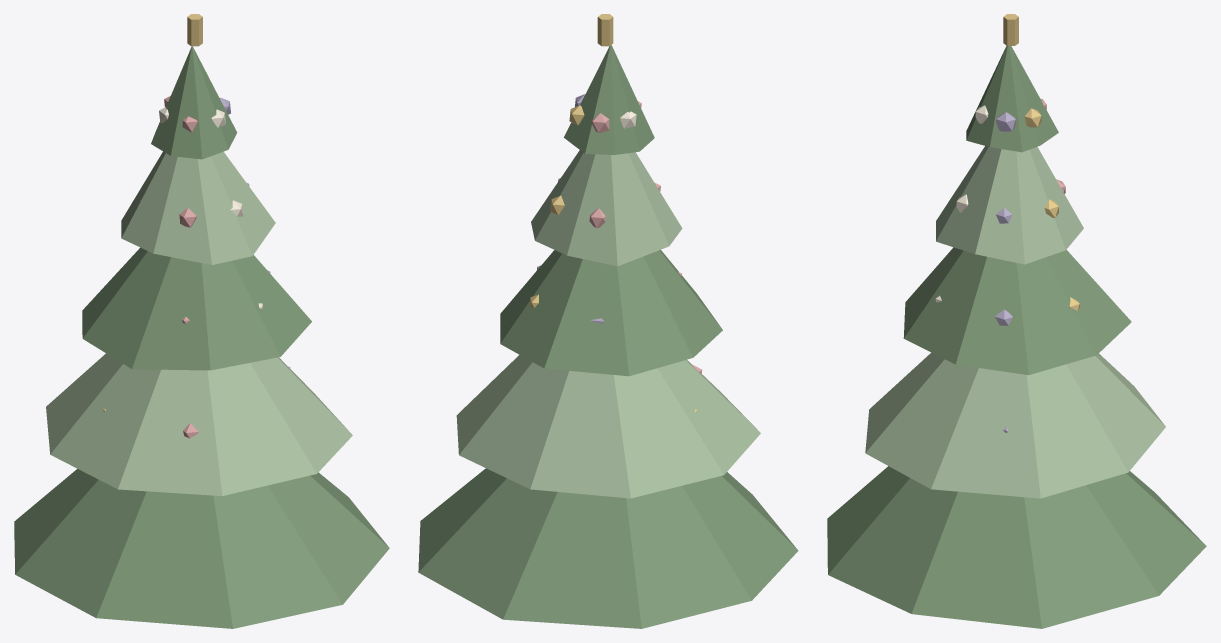
File: sb_great_tree.glb
3 renders of one model, left to right at view 1: azimuth 30°, elevation 25°; view 2: azimuth 150°, elevation 25°; view 3: azimuth 270°, elevation 25°, orthographic.
Visible parts, largest first — view 1: great_tree; view 2: great_tree; view 3: great_tree.
Part boxes in pixels (x1,y1,x2,y2): great_tree: (14, 14, 389, 628); great_tree: (418, 14, 798, 628); great_tree: (827, 14, 1206, 628).
Size of the model in its own units: 3.93 by 6.6 by 3.91.
